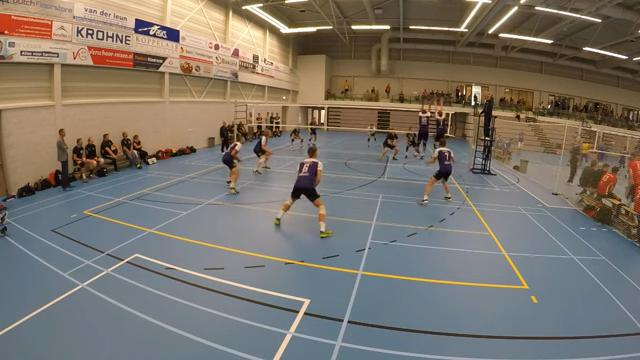muro: (429, 96, 451, 162), (413, 95, 426, 160)
